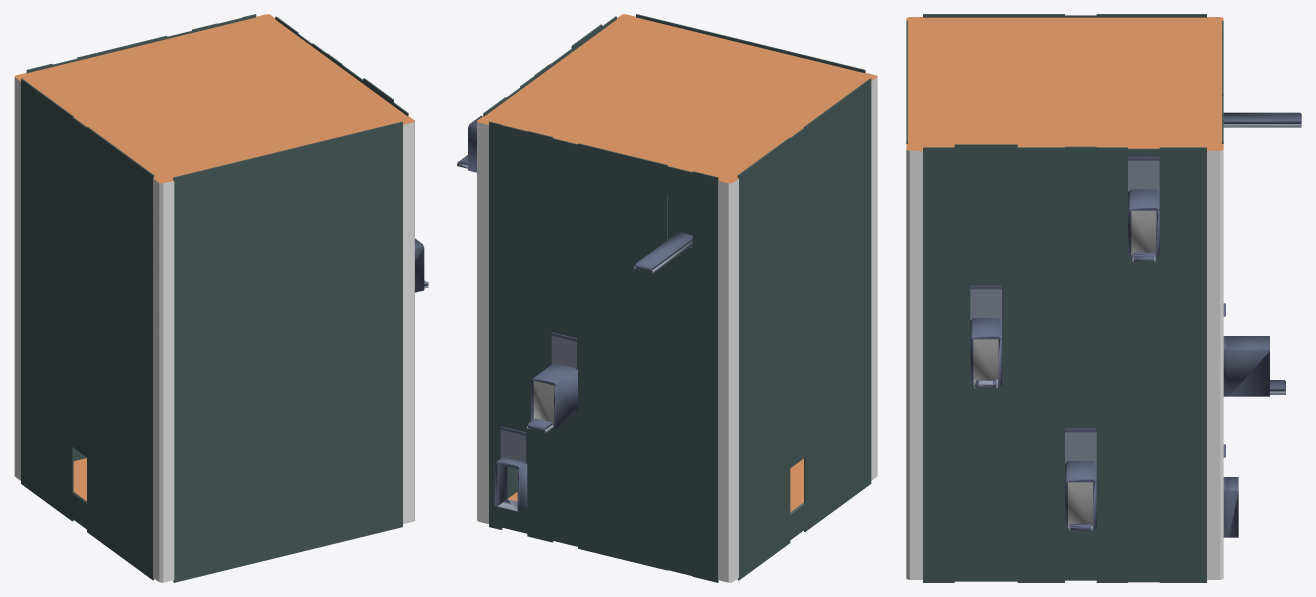
Rendered from disposal pit mesh.obj.
3 views of the same model, side by side, from view 1: azimuth 30°, elevation 25°; view 2: azimuth 150°, elevation 25°; view 3: azimuth 270°, elevation 25° (orthographic). The views are drawn at different scales.
Parts seen in each view (by area): view 1: floorFull.241_floorFull, wall.051_wall, wall.045_wall, wall.050_wall, wall.048_wall, wall.052_wall, wall.053_wall, wall.047_wall, wall.049_wall, wall.046_wall, wallCorner.004_wallCorner, wall.042_wall (+11 smaller); view 2: floorFull.241_floorFull, wall.060_wall, wall.057_wall, wall.061_wall, wall.059_wall, wall.064_wall, wallCorner.007_wallCorner, wall.058_wall, wall.075_wall, wall.041_wall, wall.044_wall, wall.055_wall (+19 smaller); view 3: floorFull.241_floorFull, wall.068_wall, wall.071_wall, wall.065_wall, wall.070_wall, wall.066_wall, wall.072_wall, wall.152_wall, wall.079_wall.035, wallCorner.005_wallCorner, wallCorner.006_wallCorner, structure-doorway.019_structure-doorway.013 (+8 smaller).
Part boxes in pixels (x1,y1,x2,y2): floorFull.241_floorFull: (14, 14, 414, 183); wall.051_wall: (326, 134, 352, 545); wall.045_wall: (173, 171, 199, 582); wall.050_wall: (301, 140, 326, 551); wall.048_wall: (250, 152, 275, 564); wall.052_wall: (352, 128, 377, 539); wall.053_wall: (377, 121, 402, 532); wall.047_wall: (225, 159, 250, 570); wall.049_wall: (275, 146, 301, 557); wall.046_wall: (199, 165, 224, 576); wallCorner.004_wallCorner: (153, 178, 174, 582); wall.042_wall: (123, 154, 139, 569); floorFull.241_floorFull: (477, 14, 877, 183); wall.060_wall: (603, 149, 641, 564); wall.057_wall: (692, 171, 718, 582); wall.061_wall: (578, 143, 603, 554); wall.059_wall: (641, 159, 667, 570); wall.064_wall: (527, 131, 553, 542); wallCorner.007_wallCorner: (718, 178, 738, 582); wall.058_wall: (667, 246, 692, 575); wall.075_wall: (501, 125, 527, 463); wall.041_wall: (855, 78, 871, 493); wall.044_wall: (811, 111, 827, 526); wall.055_wall: (753, 154, 768, 569); floorFull.241_floorFull: (907, 17, 1222, 150); wall.068_wall: (1017, 147, 1064, 582); wall.071_wall: (1159, 147, 1206, 582); wall.065_wall: (923, 147, 954, 582); wall.070_wall: (1096, 147, 1127, 582); wall.066_wall: (954, 364, 1017, 581); wall.072_wall: (1128, 256, 1159, 582); wall.152_wall: (954, 144, 1017, 316); wall.079_wall.035: (1065, 146, 1096, 428); wallCorner.005_wallCorner: (906, 144, 922, 579); wallCorner.006_wallCorner: (1207, 144, 1223, 579); structure-doorway.019_structure-doorway.013: (1128, 156, 1159, 256).
Bounding box in the file's own units: 24.05 × 30.63 × 25.05.
